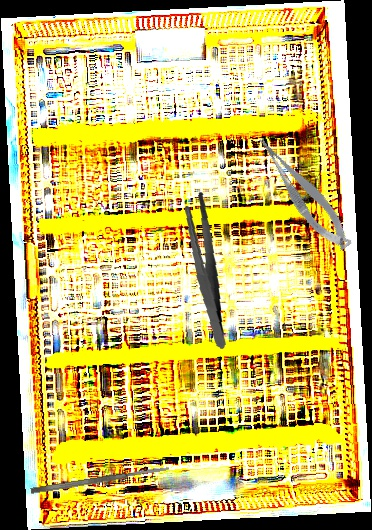Dressing Forceps: (173, 191, 239, 349)
Micro Scissor: (253, 126, 356, 259)
Spatula Surgical: (30, 465, 170, 495)
